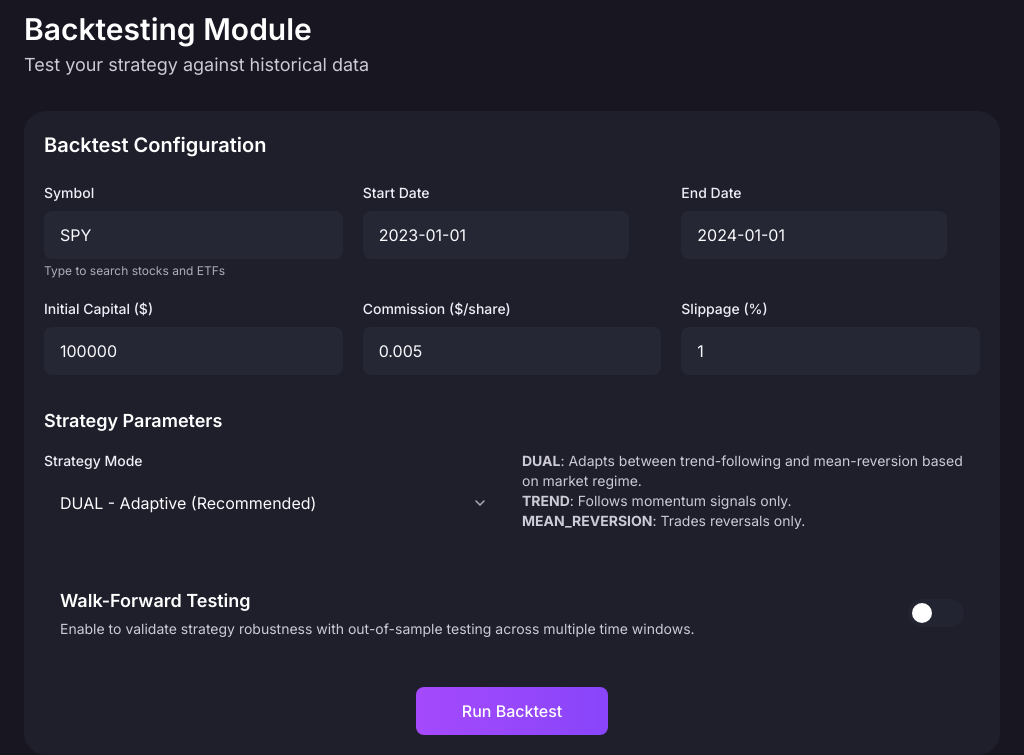
Test: Backtest Page › error is cleared when retry is clicked
The width and height of the screenshot is (1024, 755).
Click the button "Run Backtest" at (512, 711), box top-left (416, 687), bottom-right (608, 735)
(page scrolled)
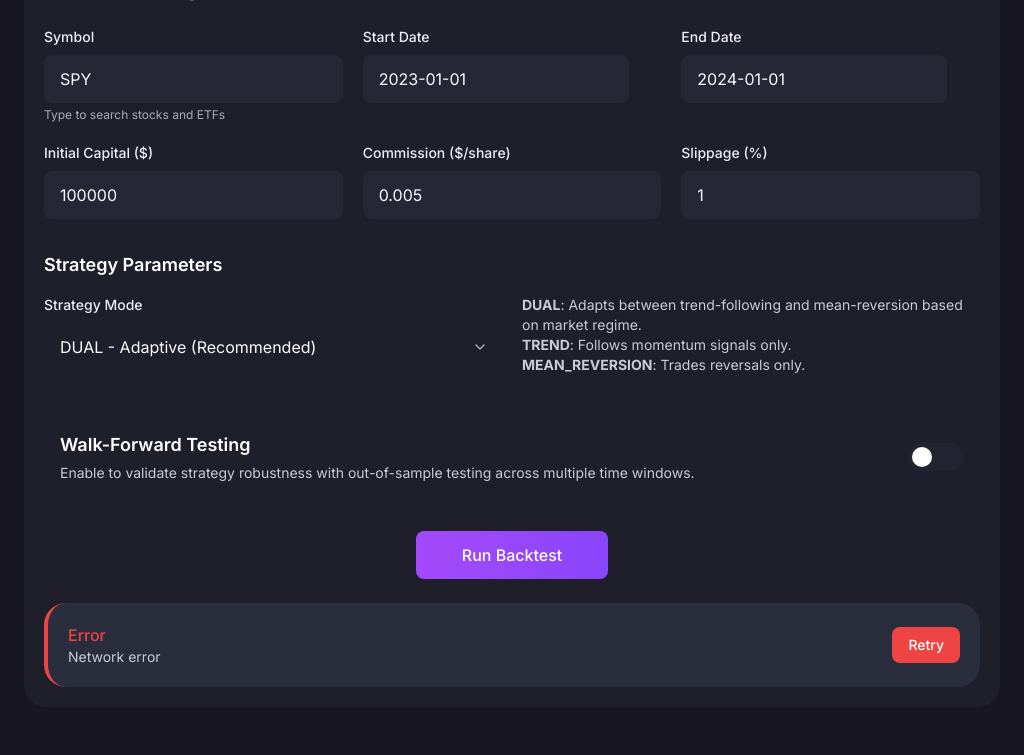
expect the button "Retry" is shown: met
expect the text "Network error" is shown: met, box top-left (68, 647), bottom-right (161, 667)
# Click retry
Click the button "Retry" at (926, 645), box top-left (892, 627), bottom-right (960, 663)
(page scrolled)
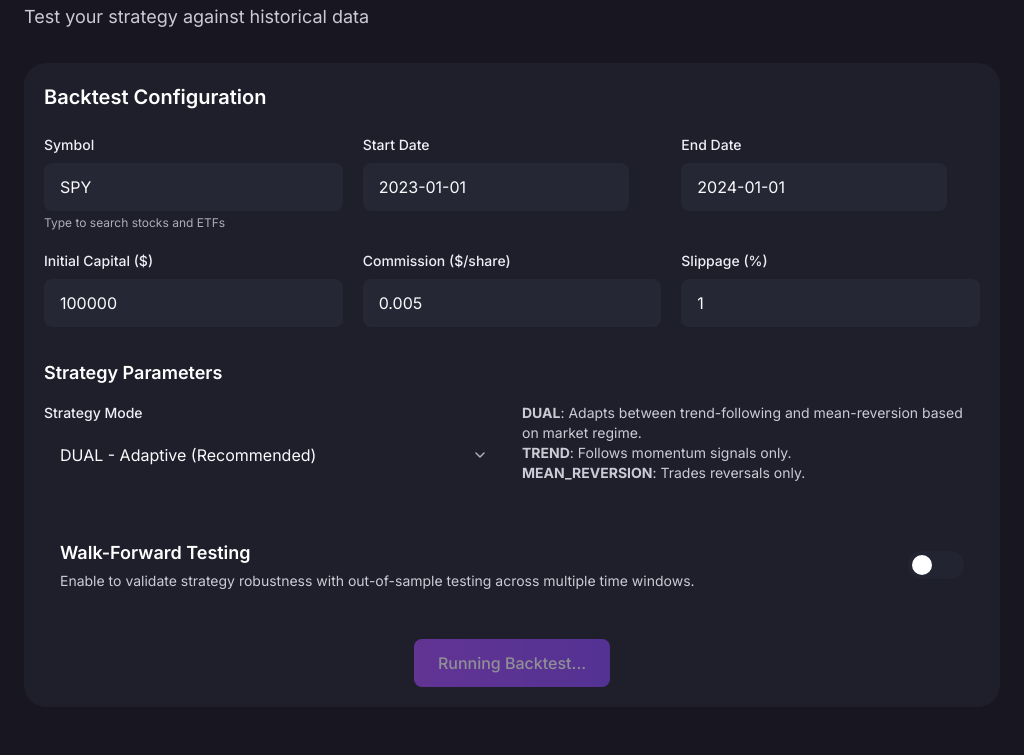
expect the text "Network error" is gone: met
